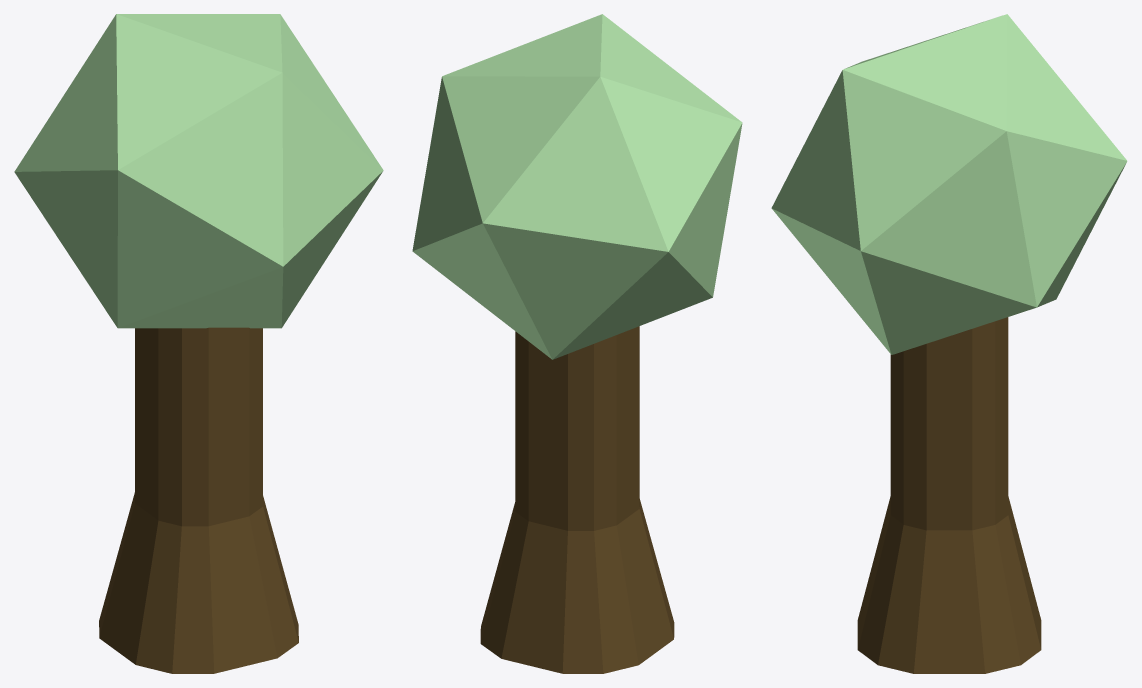
Rendered from Tree2.fbx.
3 renders of one model, left to right at view 1: azimuth 30°, elevation 25°; view 2: azimuth 150°, elevation 25°; view 3: azimuth 270°, elevation 25°, orthographic. The views are drawn at different scales.
Visible parts, largest first — view 1: Cube.001; view 2: Cube.001; view 3: Cube.001.
Part boxes in pixels (x1=…): Cube.001: x1=14, y1=14, x2=383, y2=673; Cube.001: x1=412, y1=14, x2=742, y2=673; Cube.001: x1=771, y1=14, x2=1127, y2=673.
Bounding box in the file's own units: 440 × 919 × 498.
